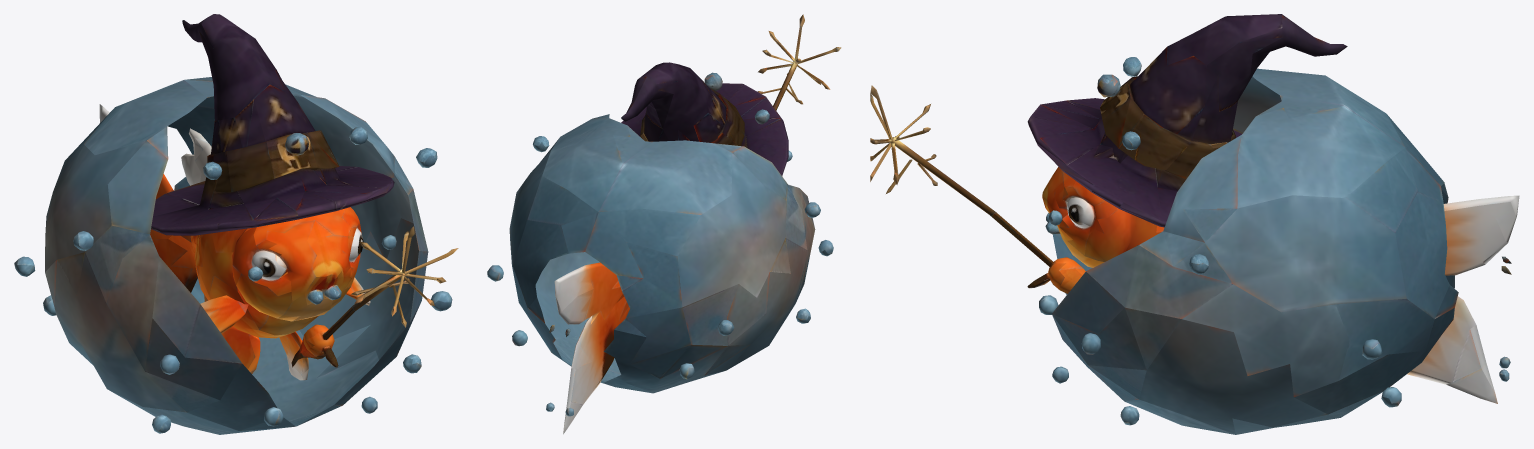
Rendered from ปลาทองร้องพ่อง.glb.
The picture shows the model from 3 angles, left to right: view 1: azimuth 30°, elevation 25°; view 2: azimuth 150°, elevation 25°; view 3: azimuth 270°, elevation 25°; orthographic projection. The views are drawn at different scales.
Visible parts, largest first — view 1: mesh_node; view 2: mesh_node; view 3: mesh_node.
Part boxes in pixels (bbox=[...]): mesh_node: bbox=[14, 14, 458, 434]; mesh_node: bbox=[487, 14, 841, 434]; mesh_node: bbox=[870, 14, 1519, 434].
Bounding box in the file's own units: 0.666 × 0.6875 × 1.
1 material, 1 textured.
